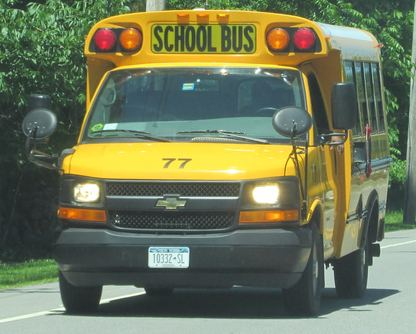bus: (20, 4, 395, 314)
